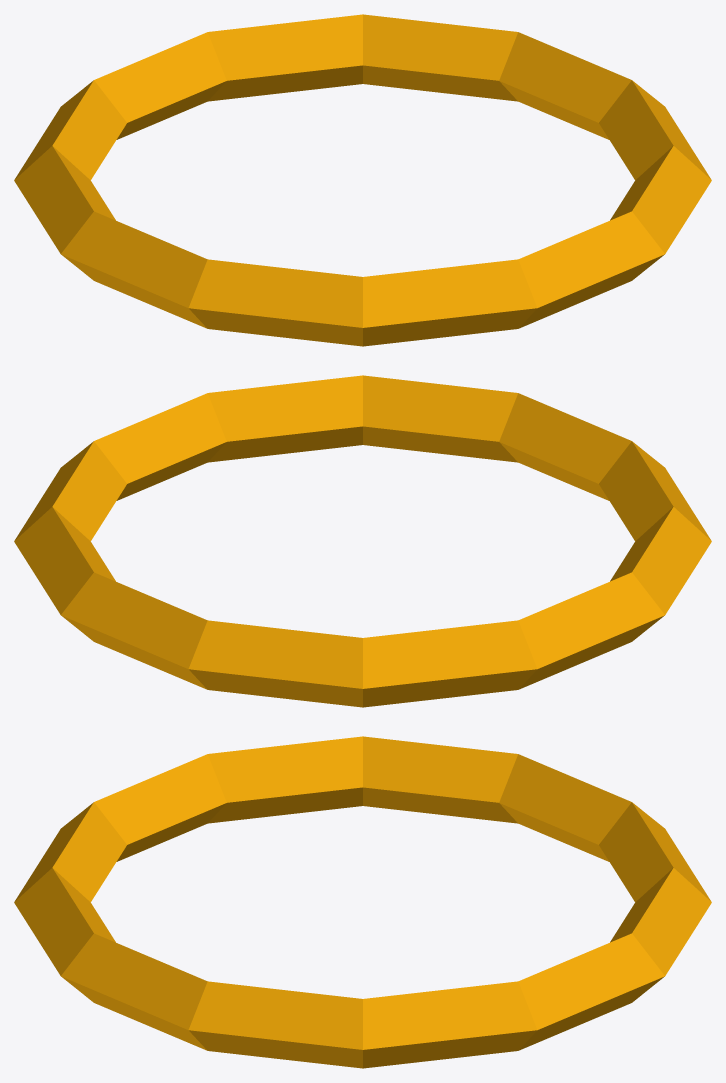
Rendered from coin.obj.
3 renders of one model, top to bottom at view 1: azimuth 30°, elevation 25°; view 2: azimuth 150°, elevation 25°; view 3: azimuth 270°, elevation 25°, orthographic.
Parts seen in each view (by area): view 1: Coin; view 2: Coin; view 3: Coin.
Boxes of the visible parts, x1,y1,x2,y2 form: Coin: (14, 14, 711, 346); Coin: (14, 375, 711, 707); Coin: (14, 736, 711, 1068).
Size of the model in its own units: 10 by 1.1 by 10.
